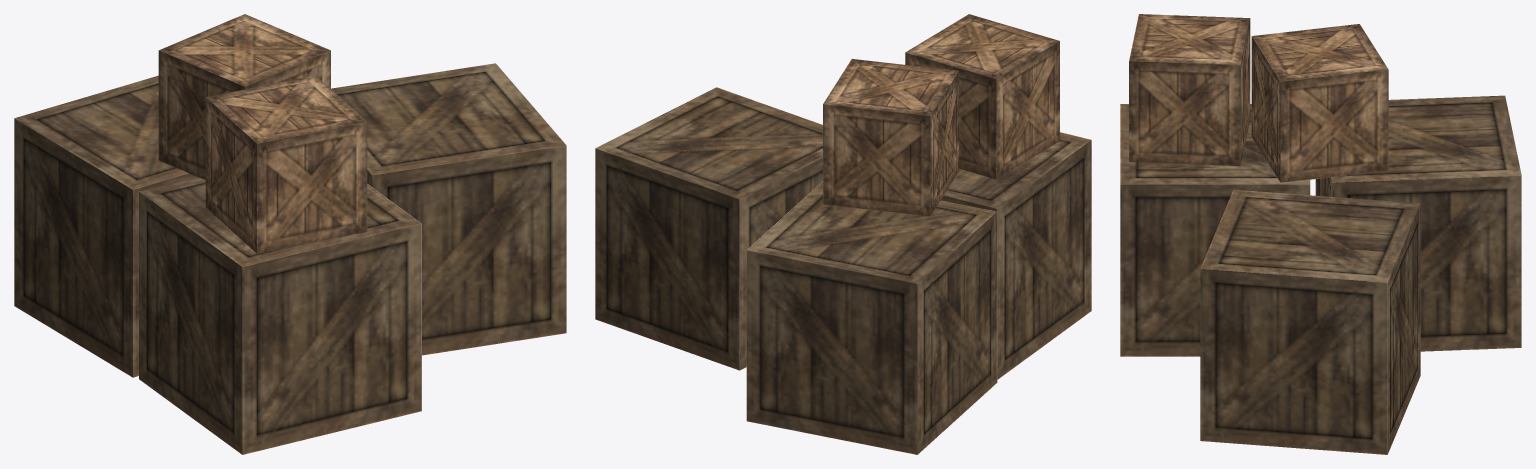
Rendered from Crates_002.dae.
3 renders of one model, left to right at view 1: azimuth 30°, elevation 25°; view 2: azimuth 150°, elevation 25°; view 3: azimuth 270°, elevation 25°, orthographic. The views are drawn at different scales.
Visible parts, largest first — view 1: Crates_002; view 2: Crates_002; view 3: Crates_002.
Part boxes in pixels (bbox=[...]): Crates_002: bbox=[14, 14, 566, 454]; Crates_002: bbox=[595, 14, 1091, 454]; Crates_002: bbox=[1120, 14, 1521, 454].
Size of the model in its own units: 13.3 by 12.06 by 9.06.
